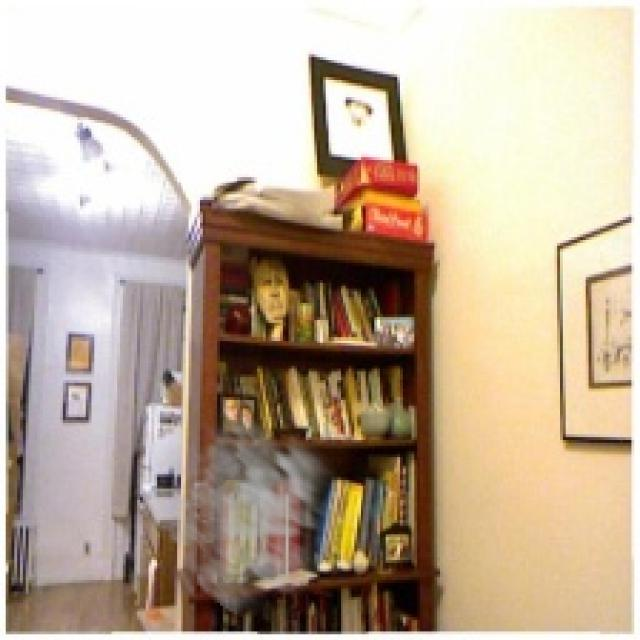smoke: (160, 406, 360, 626)
